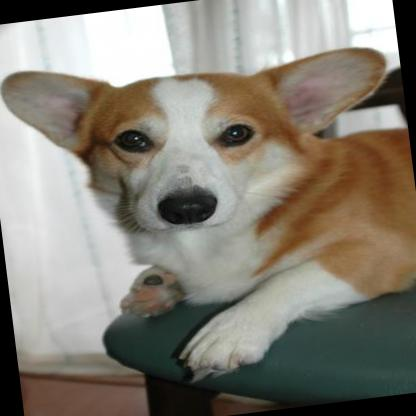Pembroke: (0, 21, 416, 400)
